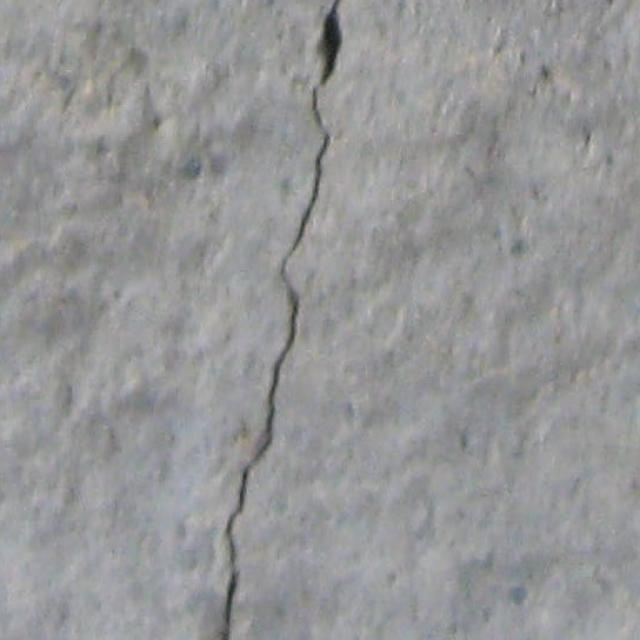crack: (217, 1, 348, 638)
